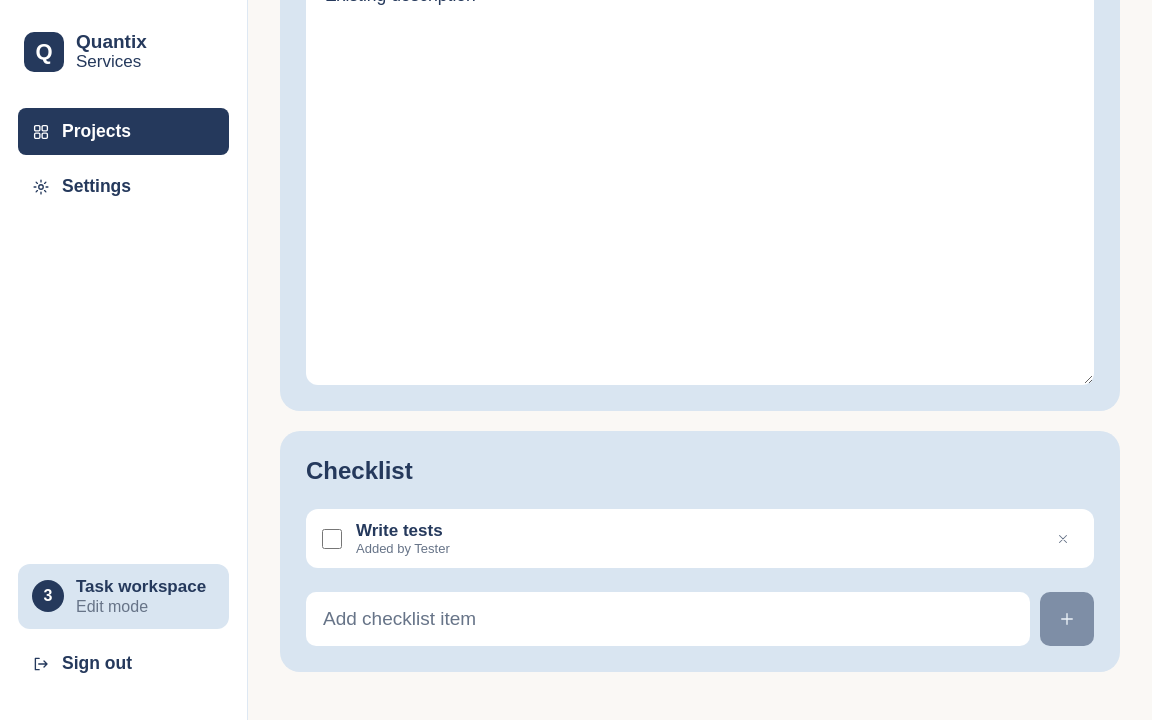
Checklists and permissions › allows removing a checklist item in edit mode
The width and height of the screenshot is (1152, 720).
(page scrolled)
Click the button named "Remove Write tests": {"x": 1063, "y": 538} [1048,524,1078,554]
(page scrolled)
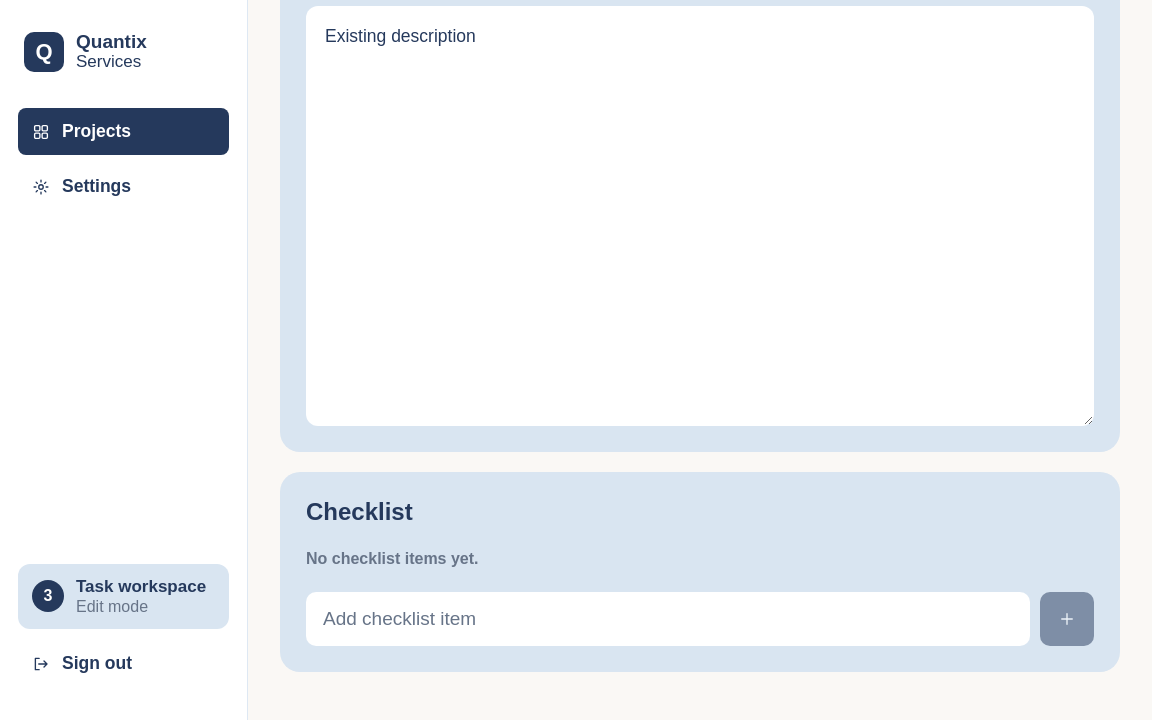
Check: the text "Write tests" is gone
